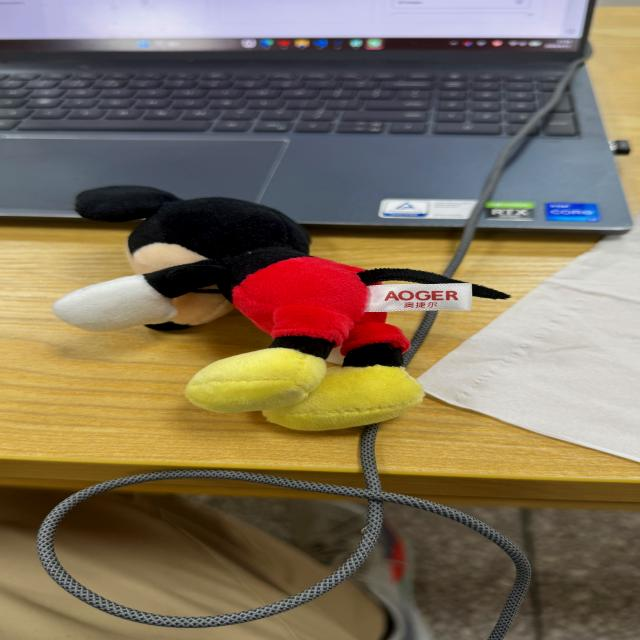mickey: (54, 187, 459, 430)
